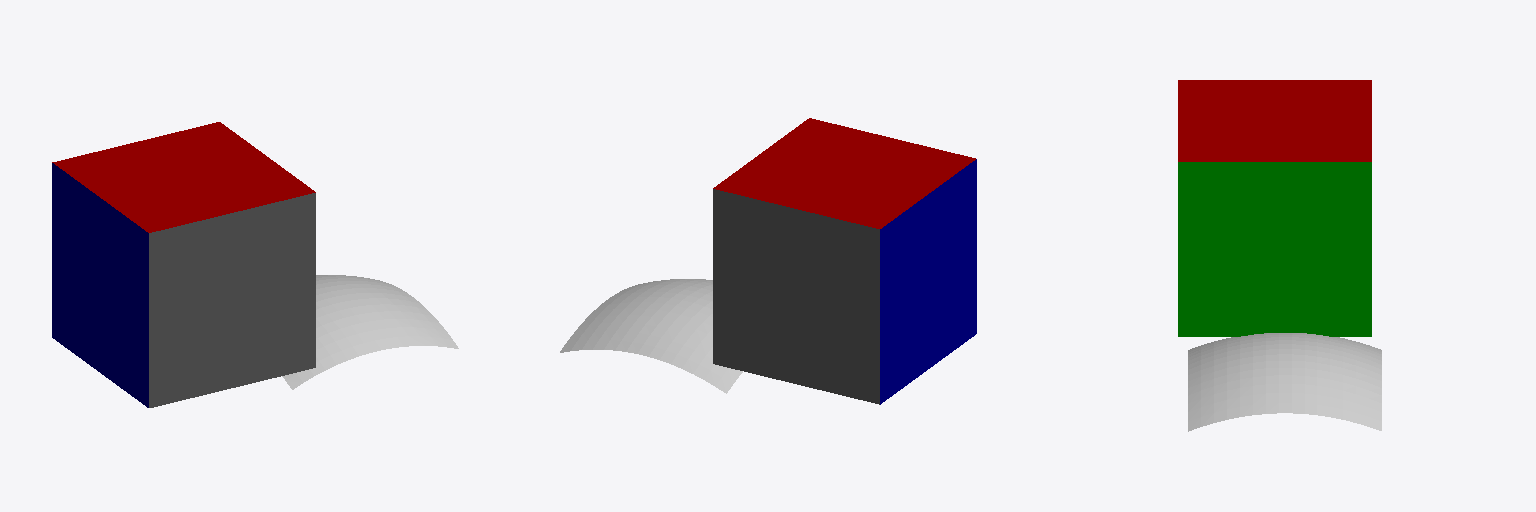
The model's file is both.obj.
3 renders of one model, left to right at view 1: azimuth 30°, elevation 25°; view 2: azimuth 150°, elevation 25°; view 3: azimuth 270°, elevation 25°, orthographic.
Bounding box in the file's own units: 1.89 × 1.12 × 1.05.